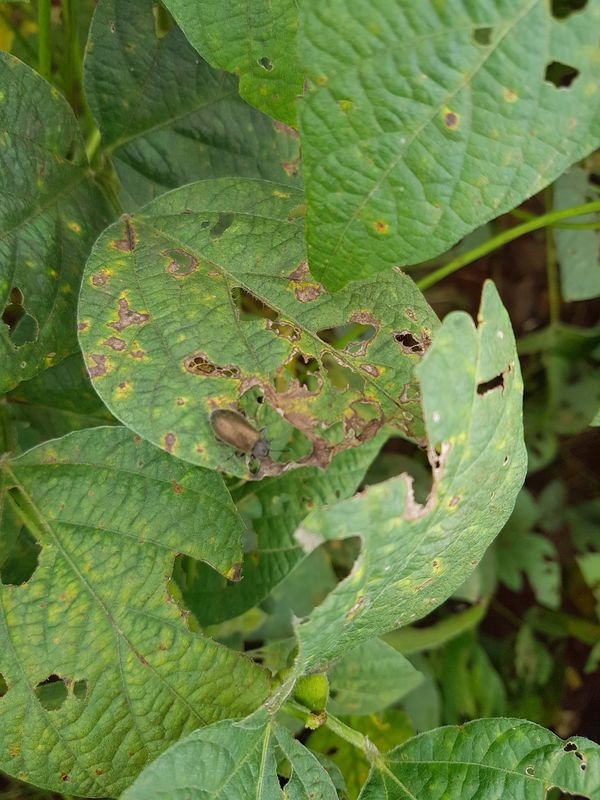Lagria_villosa: (201, 397, 293, 476)
